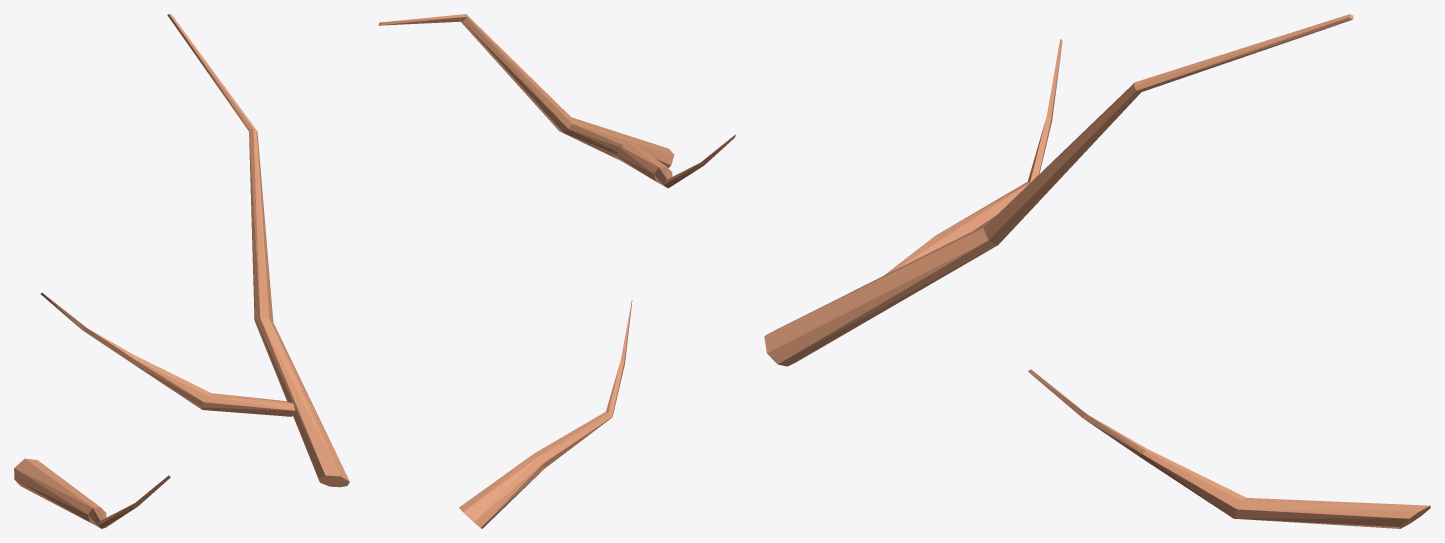
The model's file is smallSticks.glb.
3 views of the same model, side by side, from view 1: azimuth 30°, elevation 25°; view 2: azimuth 150°, elevation 25°; view 3: azimuth 270°, elevation 25° (orthographic). The views are drawn at different scales.
Visible parts, largest first — view 1: smallStick2, smallStick; view 2: smallStick2, smallStick; view 3: smallStick2, smallStick.
Boxes of the visible parts, x1,y1,x2,y2 form: smallStick2: (40, 14, 349, 487); smallStick: (14, 458, 170, 528); smallStick2: (378, 14, 735, 188); smallStick: (459, 300, 632, 528); smallStick2: (764, 14, 1353, 366); smallStick: (1028, 369, 1430, 528).
Bounding box in the file's own units: 0.3751 × 0.6701 × 0.689.
